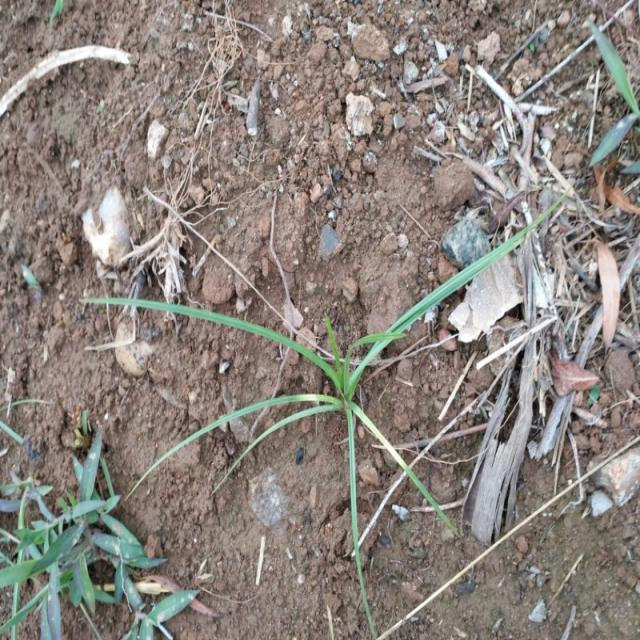sedge: (105, 199, 522, 556)
